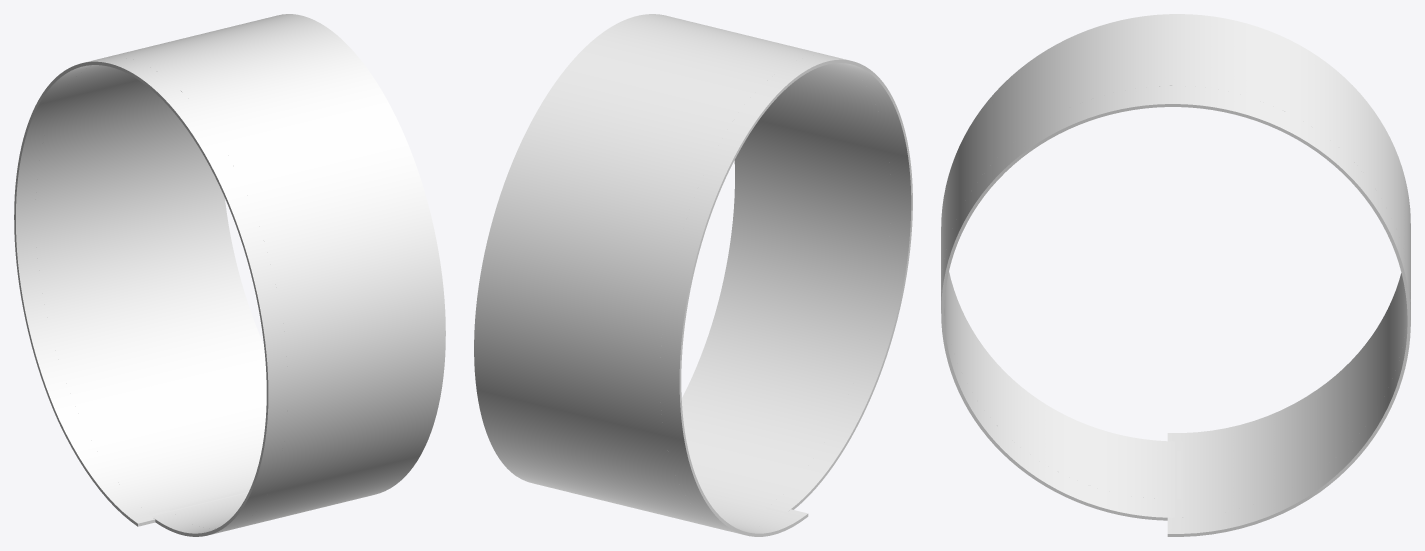
File: Level 64 unroll rope to rescue mountaineer.fbx
3 renders of one model, left to right at view 1: azimuth 30°, elevation 25°; view 2: azimuth 150°, elevation 25°; view 3: azimuth 270°, elevation 25°, orthographic. The views are drawn at different scales.
Visible parts, largest first — view 1: Blend; view 2: Blend; view 3: Blend.
Part boxes in pixels (x1,y1,x2,y2): Blend: (14,14,445,536); Blend: (474,14,912,536); Blend: (941,14,1410,536).
Size of what is drawn, in the model's own units: 72.69 by 143 by 143.
